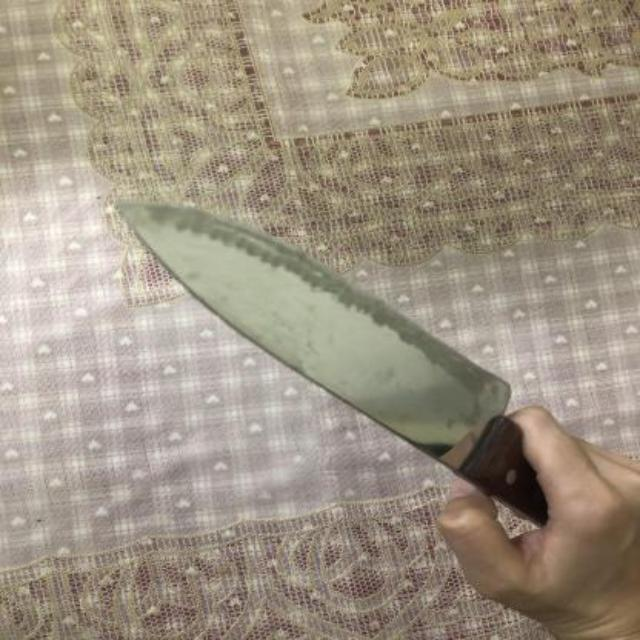Knife: (116, 200, 550, 530)
